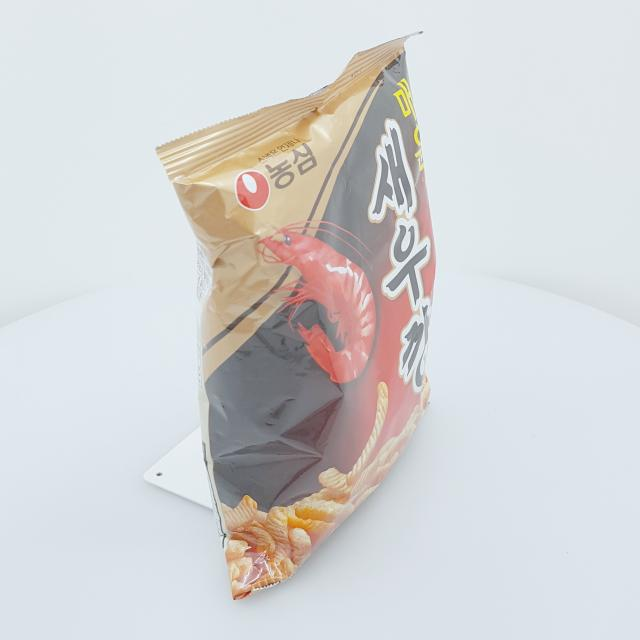-90G: (156, 31, 438, 601)
